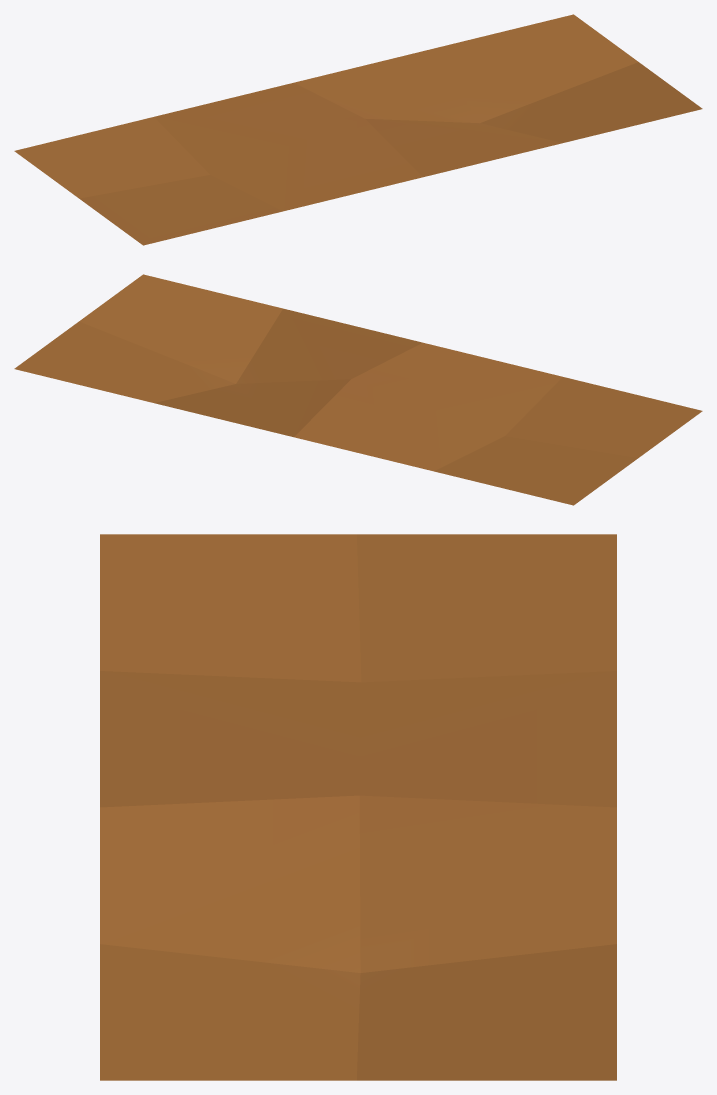
The model's file is cGround_C_Under_3__.fbx.
3 renders of one model, top to bottom at view 1: azimuth 30°, elevation 25°; view 2: azimuth 150°, elevation 25°; view 3: azimuth 270°, elevation 25°, orthographic. The views are drawn at different scales.
Visible parts, largest first — view 1: cGround_C_Under_3; view 2: cGround_C_Under_3; view 3: cGround_C_Under_3.
Part boxes in pixels (x1,y1,x2,y2): cGround_C_Under_3: [14, 14, 702, 245]; cGround_C_Under_3: [14, 274, 702, 505]; cGround_C_Under_3: [100, 534, 616, 1080].
Bounding box in the file's own units: 1000 × 55.71 × 400.
